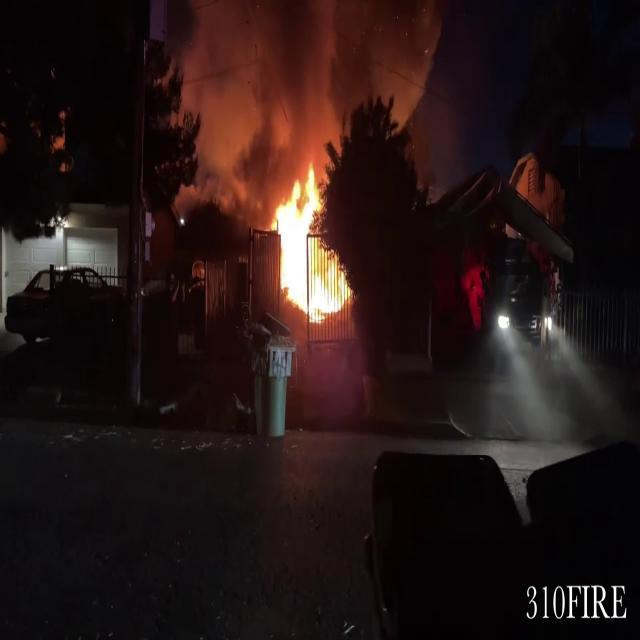Fire: (268, 157, 356, 329)
Smoke: (170, 0, 454, 185), (172, 0, 342, 191)
